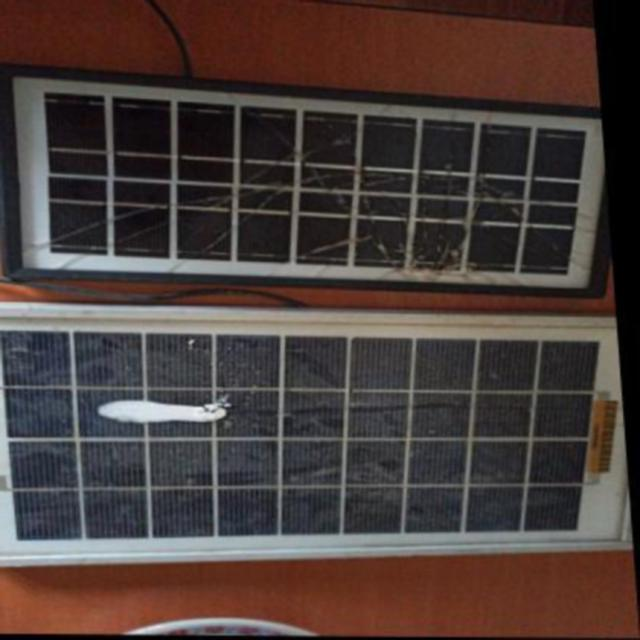cracked: (2, 66, 614, 296)
soiled: (0, 305, 633, 555)
